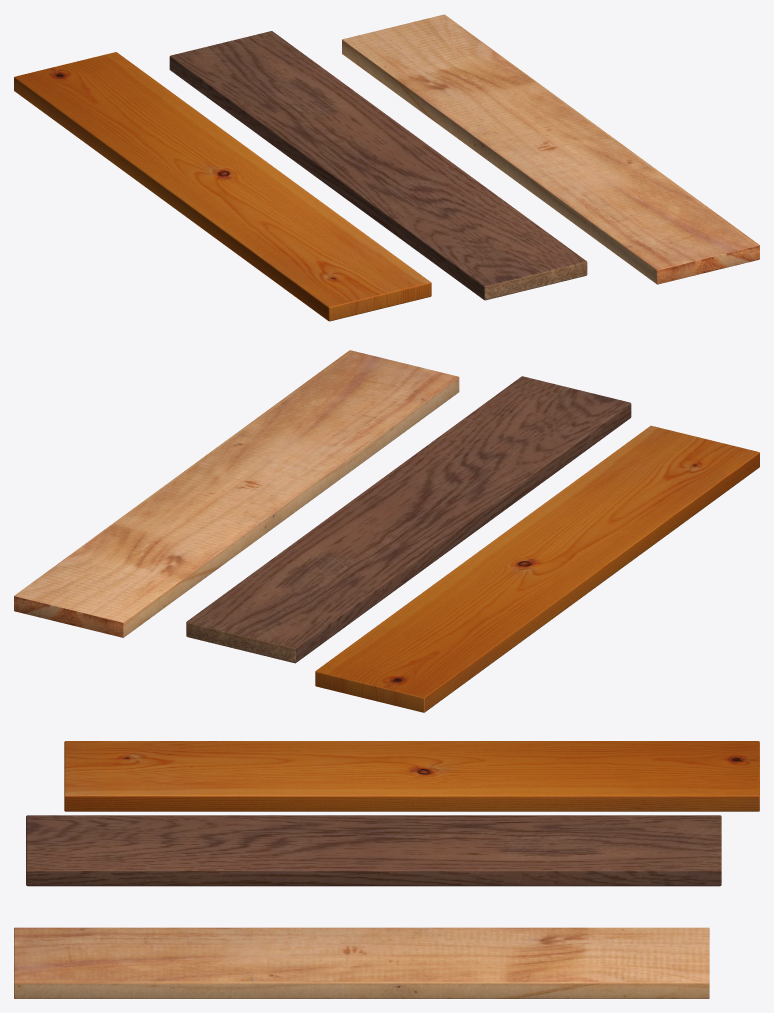
The model's file is Planks of wood.obj.
The picture shows the model from 3 angles, top to bottom: view 1: azimuth 30°, elevation 25°; view 2: azimuth 150°, elevation 25°; view 3: azimuth 270°, elevation 25°; orthographic projection. The views are drawn at different scales.
Parts seen in each view (by area): view 1: Cube.002, Cube.007, Cube.005_Cube.009; view 2: Cube.002, Cube.007, Cube.005_Cube.009; view 3: Cube.002, Cube.007, Cube.005_Cube.009.
Part boxes in pixels (x1=…): Cube.002: x1=342, y1=14, x2=759, y2=284; Cube.007: x1=169, y1=31, x2=587, y2=300; Cube.005_Cube.009: x1=14, y1=52, x2=431, y2=321; Cube.002: x1=14, y1=350, x2=459, y2=637; Cube.007: x1=186, y1=376, x2=631, y2=663; Cube.005_Cube.009: x1=315, y1=425, x2=759, y2=712; Cube.002: x1=14, y1=927, x2=709, y2=998; Cube.007: x1=26, y1=815, x2=721, y2=886; Cube.005_Cube.009: x1=64, y1=741, x2=759, y2=811.
Size of the model in its own units: 7.56 by 0.6255 by 10.84.
Materials: 3 (3 with a texture image).
